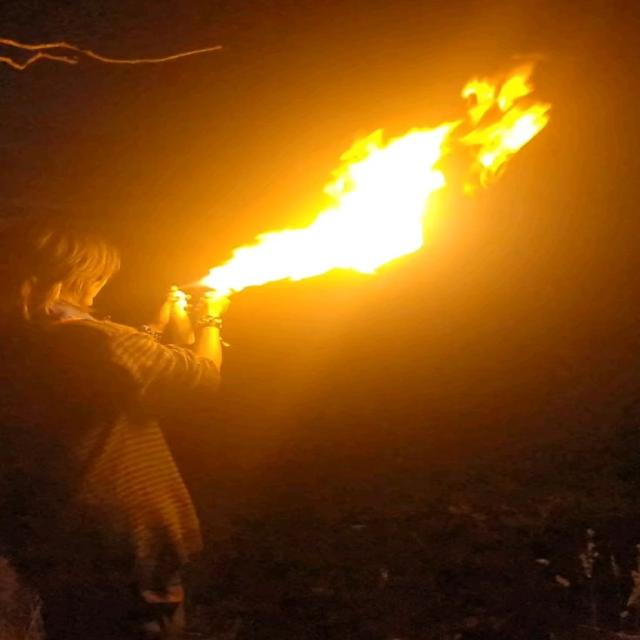fire: (199, 63, 553, 289)
